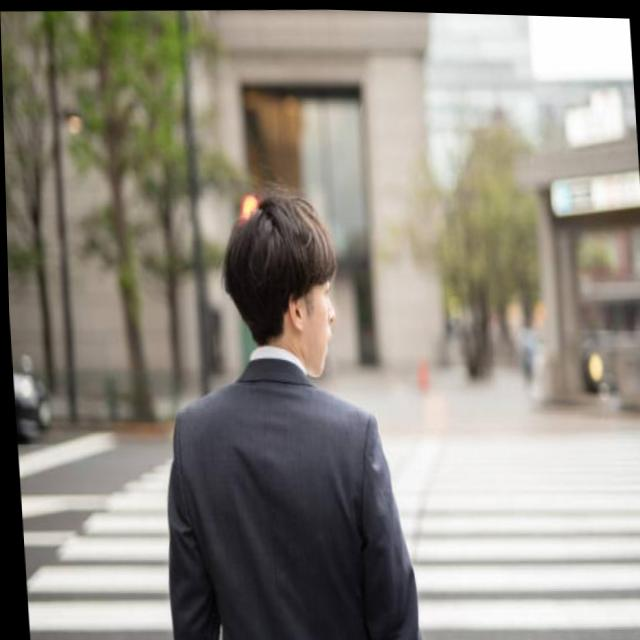no helmet: (212, 195, 304, 379)
